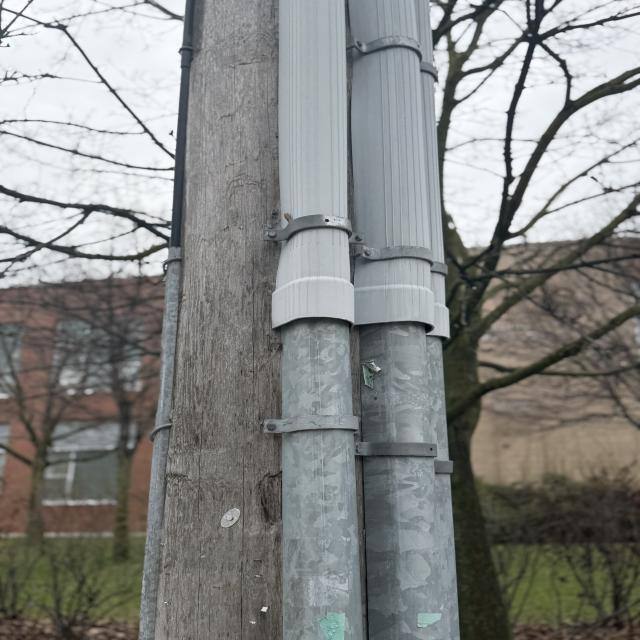Electrical Pole: (140, 1, 463, 640)
